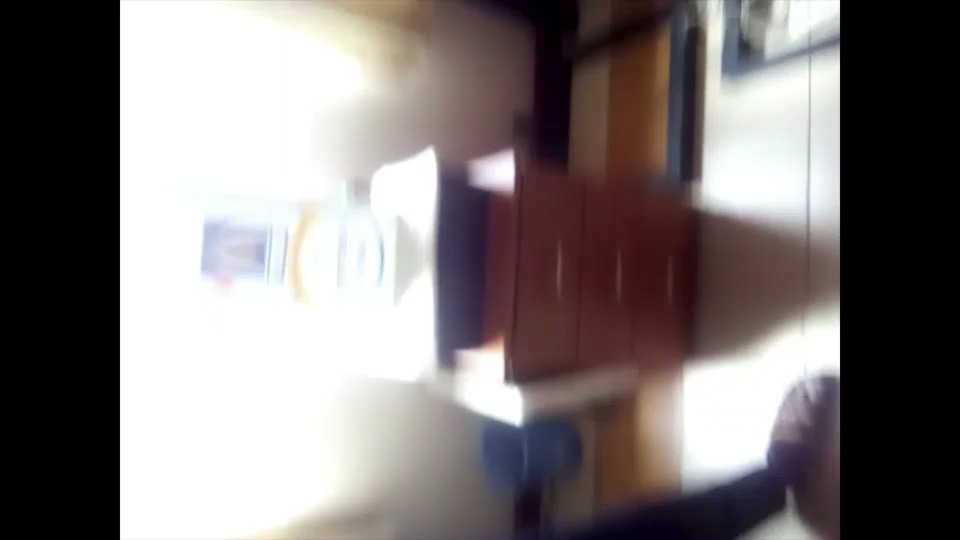wheat_flour_blue_label: (171, 206, 871, 540)
